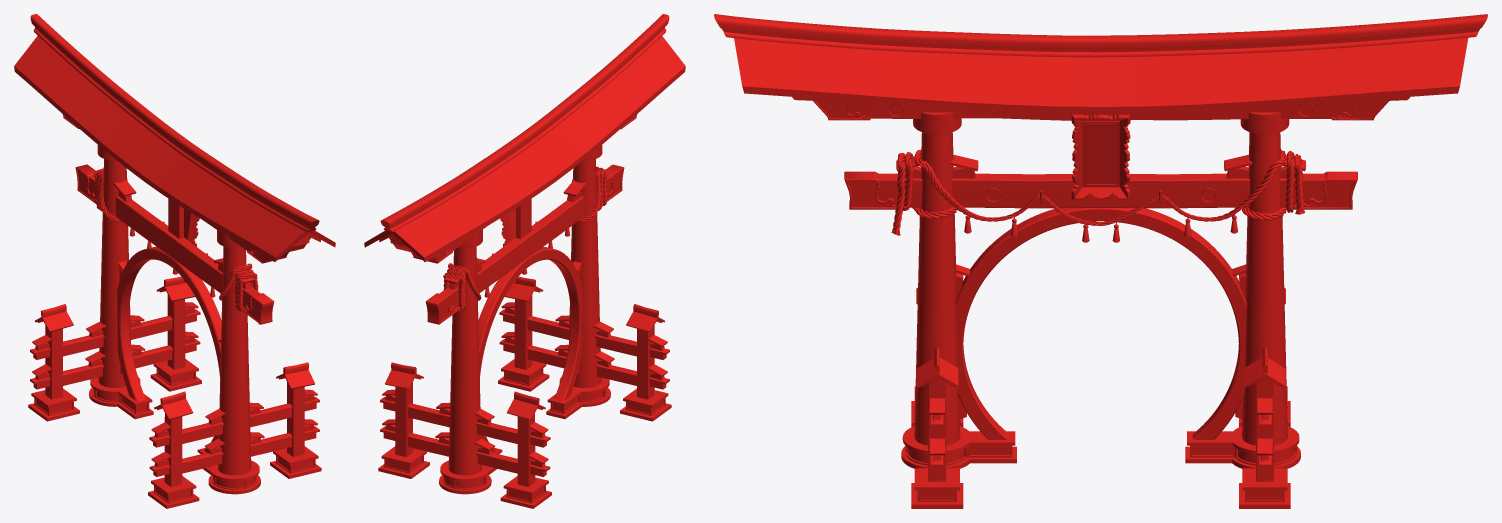
The model's file is ToriiGate_01.fbx.
The picture shows the model from 3 angles, left to right: view 1: azimuth 30°, elevation 25°; view 2: azimuth 150°, elevation 25°; view 3: azimuth 270°, elevation 25°; orthographic projection. The views are drawn at different scales.
Visible parts, largest first — view 1: ToriiGate.004_Low, ToriiGate.001_Low, ToriiGate.005_Low, ToriiGate.020_Low, ToriiGate.030_Low, ToriiGate.028_Low, ToriiGate.002_Low, ToriiGate.032_Low, ToriiGate_Low, ToriiGate.011_Low, ToriiGate.011_Low.002, ToriiGate_Low.002 (+9 smaller); view 2: ToriiGate.004_Low, ToriiGate.001_Low, ToriiGate.005_Low, ToriiGate.020_Low, ToriiGate.030_Low, ToriiGate.028_Low, ToriiGate.002_Low, ToriiGate_Low.002, ToriiGate.011_Low.002, ToriiGate.032_Low, ToriiGate.019_Low, ToriiGate.015_Low (+9 smaller); view 3: ToriiGate.004_Low, ToriiGate.001_Low, ToriiGate.020_Low, ToriiGate.028_Low, ToriiGate.002_Low, ToriiGate.032_Low, ToriiGate.019_Low, ToriiGate.003_Low, ToriiGate.005_Low, ToriiGate.030_Low, ToriiGate.015_Low, ToriiGate.033_Low (+3 smaller).
Boxes of the visible parts, box(x1,y1,x2,y2) form: ToriiGate.004_Low: box(14, 36, 335, 261); ToriiGate.001_Low: box(97, 145, 251, 475); ToriiGate.005_Low: box(35, 276, 314, 486); ToriiGate.020_Low: box(30, 14, 319, 231); ToriiGate.030_Low: box(28, 359, 321, 508); ToriiGate.028_Low: box(117, 246, 221, 452); ToriiGate.002_Low: box(88, 174, 260, 309); ToriiGate.032_Low: box(89, 377, 260, 494); ToriiGate_Low: box(33, 339, 292, 476); ToriiGate.011_Low: box(33, 312, 316, 447); ToriiGate.011_Low.002: box(30, 309, 319, 447); ToriiGate_Low.002: box(30, 339, 319, 476); ToriiGate.004_Low: box(364, 36, 685, 261); ToriiGate.001_Low: box(448, 145, 602, 475); ToriiGate.005_Low: box(385, 276, 664, 486); ToriiGate.020_Low: box(380, 14, 669, 232); ToriiGate.030_Low: box(378, 359, 671, 508); ToriiGate.028_Low: box(478, 247, 582, 452); ToriiGate.002_Low: box(440, 175, 611, 309); ToriiGate_Low.002: box(380, 339, 669, 476); ToriiGate.011_Low.002: box(380, 309, 668, 447); ToriiGate.032_Low: box(439, 377, 610, 494); ToriiGate.019_Low: box(443, 166, 607, 312); ToriiGate.015_Low: box(425, 164, 624, 324); ToriiGate.004_Low: box(734, 37, 1468, 114); ToriiGate.001_Low: box(913, 112, 1289, 445); ToriiGate.020_Low: box(714, 14, 1487, 57); ToriiGate.028_Low: box(955, 208, 1246, 439); ToriiGate.002_Low: box(876, 173, 1326, 208); ToriiGate.032_Low: box(901, 426, 1300, 468); ToriiGate.019_Low: box(892, 149, 1303, 231); ToriiGate.003_Low: box(792, 97, 1409, 120); ToriiGate.005_Low: box(916, 288, 1285, 481); ToriiGate.030_Low: box(911, 386, 1290, 508); ToriiGate.015_Low: box(844, 171, 1357, 209); ToriiGate.033_Low: box(1083, 121, 1119, 187).
Size of the model in its own units: 353 by 655 by 1039.
